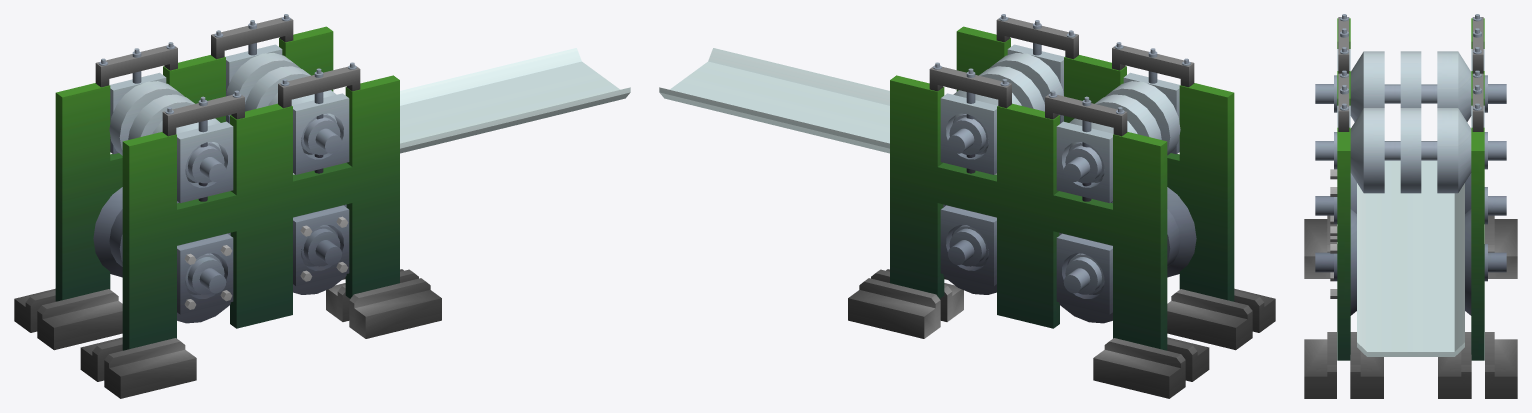
The model's file is Jingzhaji.glb.
The picture shows the model from 3 angles, left to right: view 1: azimuth 30°, elevation 25°; view 2: azimuth 150°, elevation 25°; view 3: azimuth 270°, elevation 25°; orthographic projection.
Parts seen in each view (by area): view 1: JingZhaJi, GangBan; view 2: JingZhaJi, GangBan; view 3: JingZhaJi, GangBan.
Boxes of the visible parts, box(x1,y1,x2,y2) form: JingZhaJi: box(14, 14, 441, 398); GangBan: box(293, 48, 630, 174); JingZhaJi: box(848, 14, 1275, 398); GangBan: box(659, 48, 996, 174); JingZhaJi: box(1304, 14, 1517, 398); GangBan: box(1357, 160, 1464, 356).
Size of the model in its own units: 17.83 by 8.31 by 6.12.
1 material, 1 textured.
